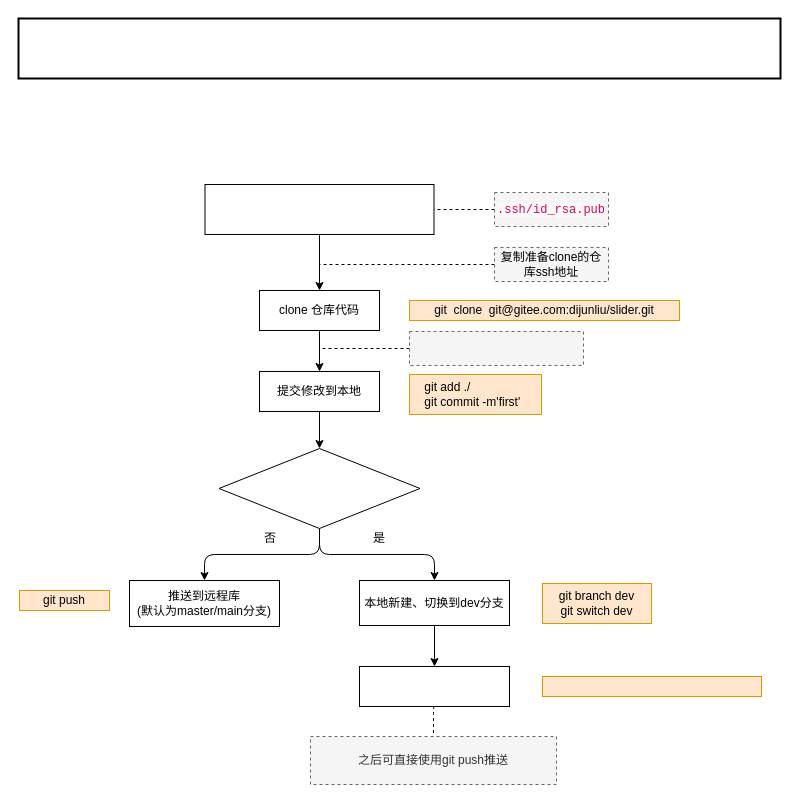
The diagram is 798 pixels wide and 802 high, and some of its shapes have lost their labels. The centre of each missing label's shape, as x and y in pixels:
"git clone" belongs at pixel 399 48.
"git push --set-upstream origin dev" belongs at pixel 652 686.
"修改clone到本地的文件" belongs at pixel 496 348.
"在github/gitee设置中录入本机ssh公钥" belongs at pixel 319 209.
"是否需要提交到远程dev分支？" belongs at pixel 319 488.
"设置dev分支远程上游分支并推送" belongs at pixel 434 686.
